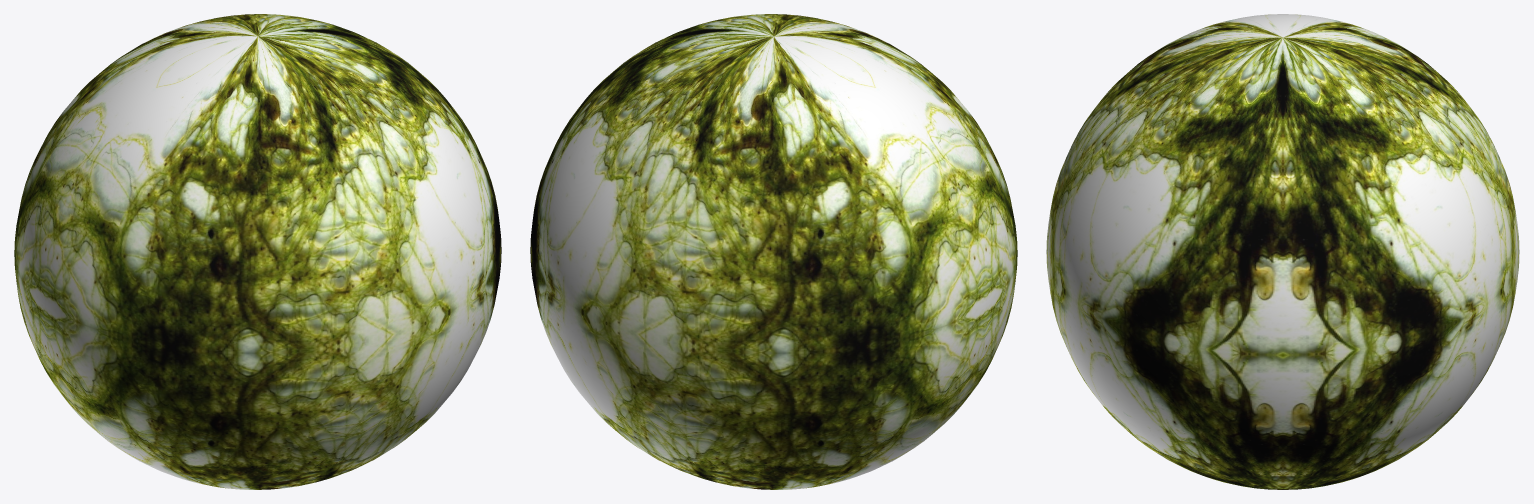
The model's file is algae_gallery.glb.
The picture shows the model from 3 angles, left to right: view 1: azimuth 30°, elevation 25°; view 2: azimuth 150°, elevation 25°; view 3: azimuth 270°, elevation 25°; orthographic projection.
Visible parts, largest first — view 1: Sphere_1; view 2: Sphere_1; view 3: Sphere_1.
Part boxes in pixels (x1,y1,x2,y2): Sphere_1: (14,14,501,489); Sphere_1: (530,14,1017,489); Sphere_1: (1046,14,1519,489).
Size of the model in its own units: 0.0517 by 0.05 by 0.05.
Materials: 1 (1 with a texture image).
